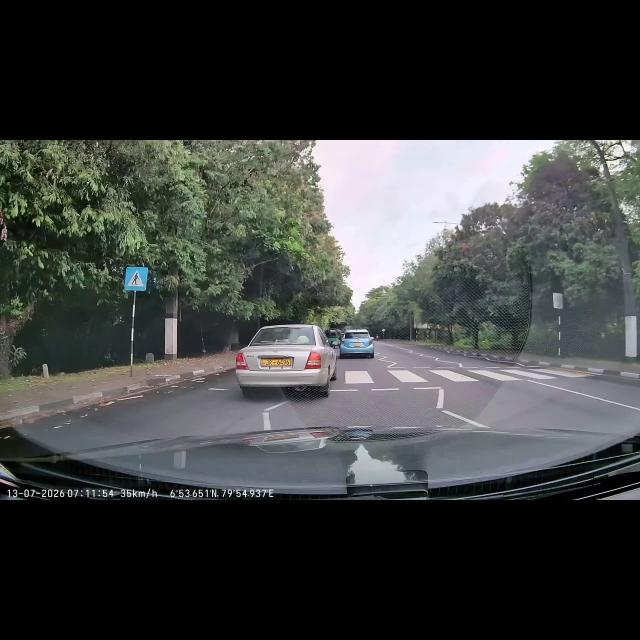car: (246, 328, 324, 392), (341, 330, 373, 352)
crosswalk: (343, 366, 542, 386)
number_plate: (260, 358, 294, 367)
